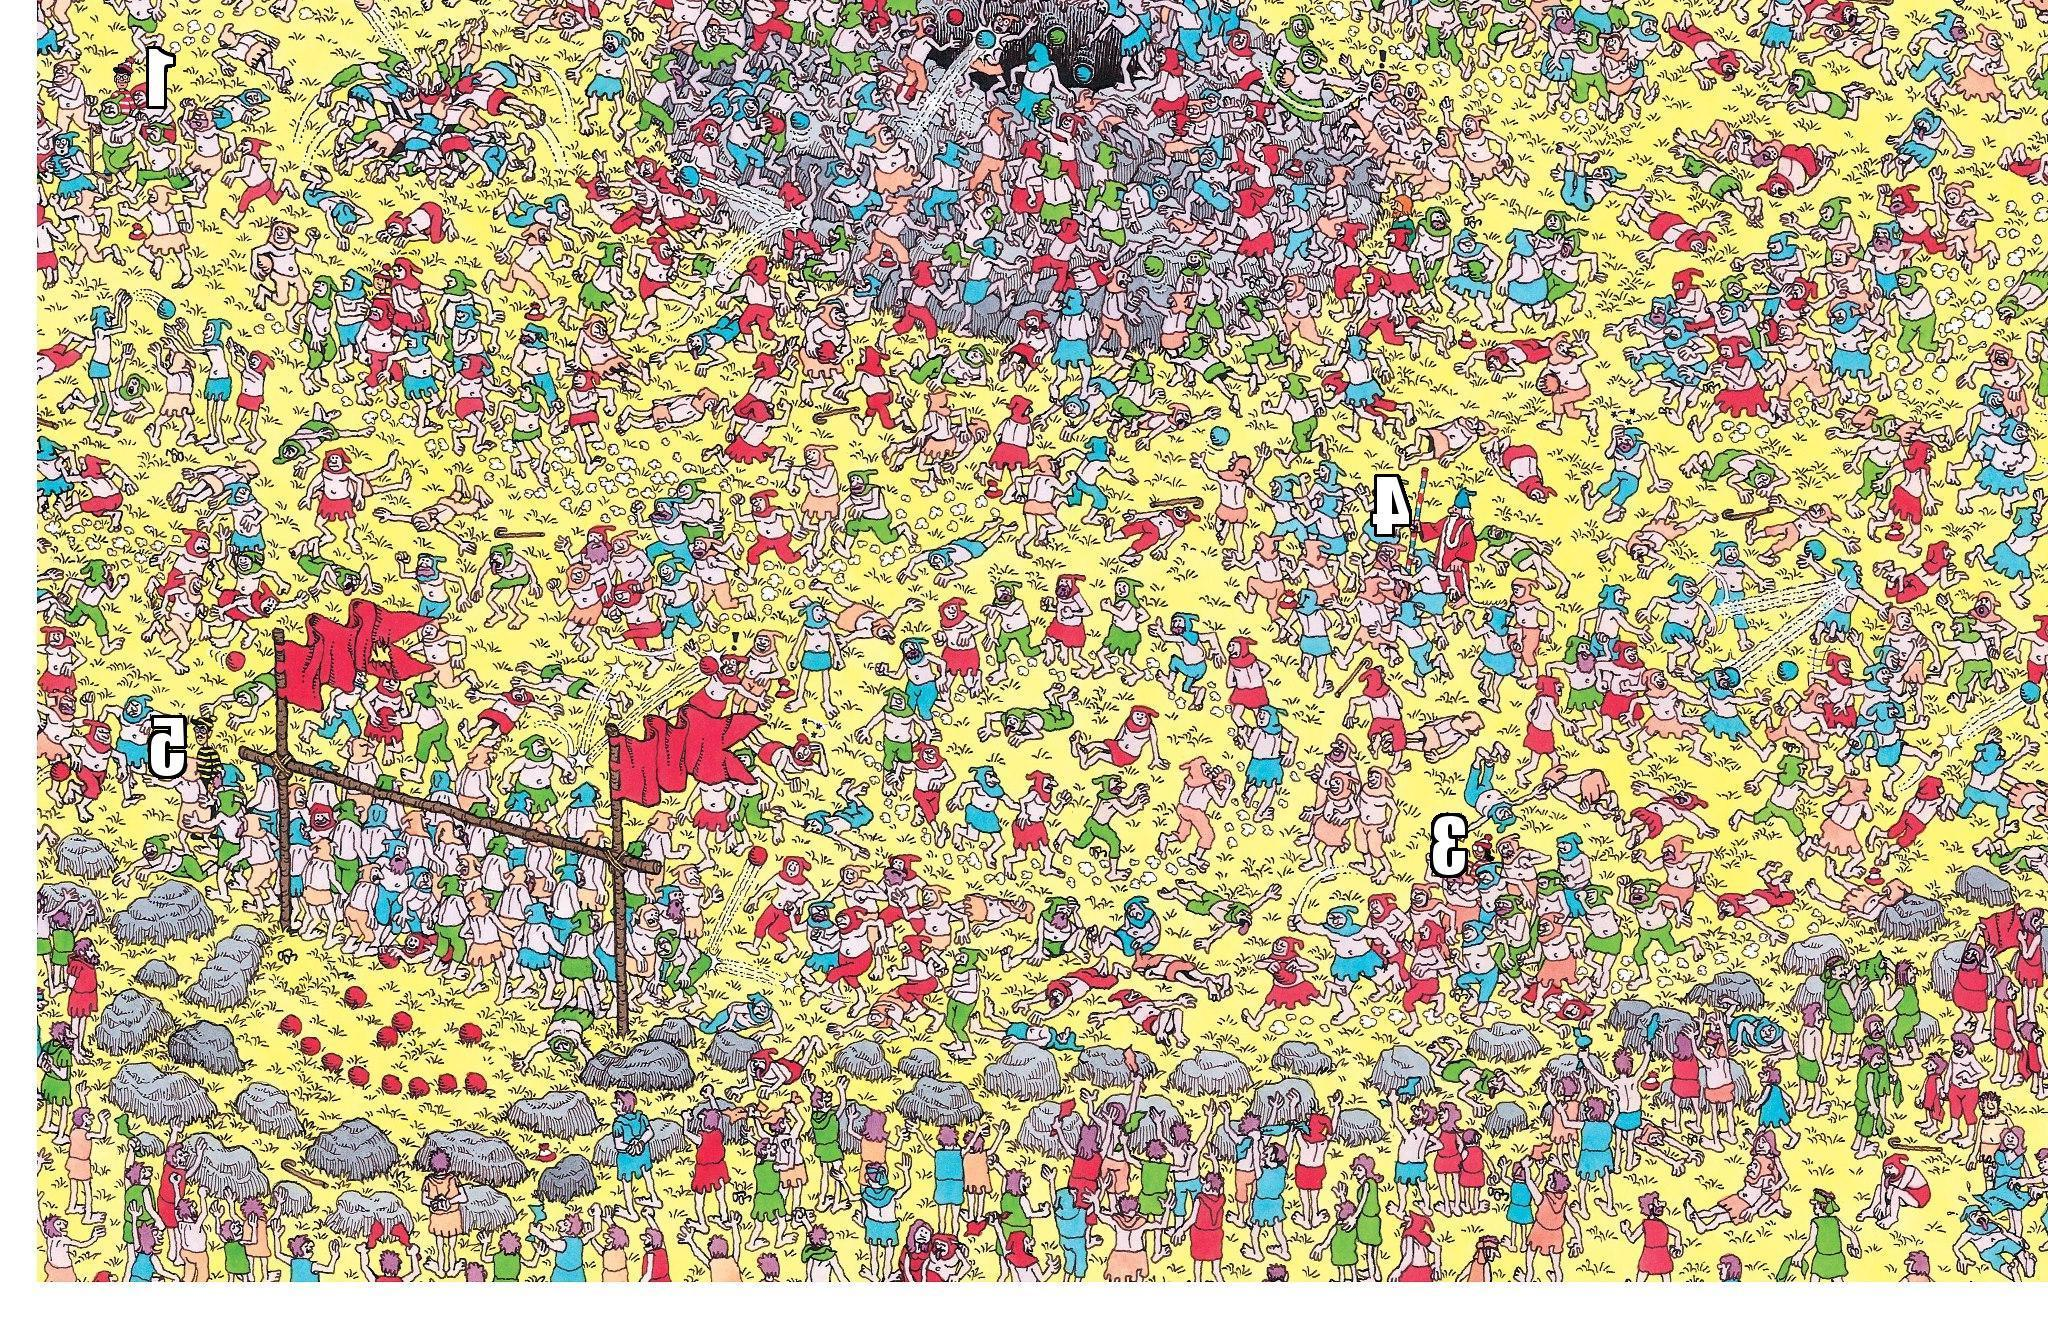waldos: (104, 55, 137, 113)
